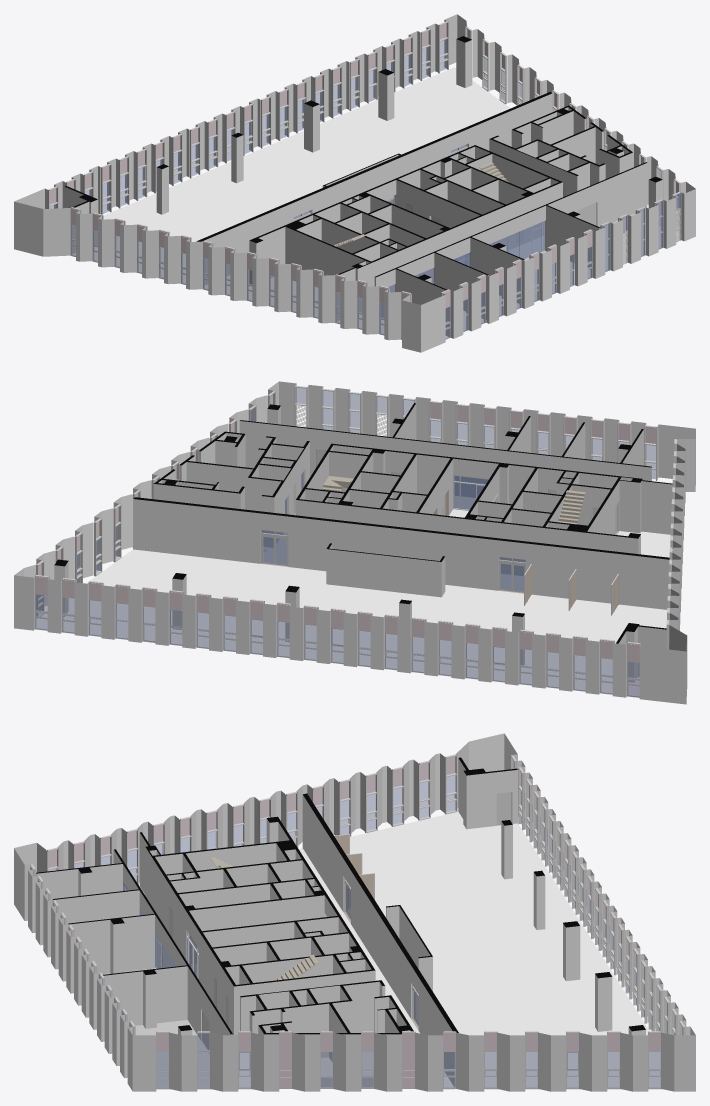
The picture shows the model from 3 angles, top to bottom: view 1: azimuth 30°, elevation 25°; view 2: azimuth 150°, elevation 25°; view 3: azimuth 270°, elevation 25°; orthographic projection. The views are drawn at different scales.
Parts seen in each view (by area): view 1: A7_10F_Wall001, A7_10F_Exterior001, A7_10F_Floor001, A7_10F_Windows001, A7_10F_WindowFrame001, A7_10F_Glass001, A7_10F_Door001; view 2: A7_10F_Wall001, A7_10F_Exterior001, A7_10F_Floor001, A7_10F_Windows001, A7_10F_WindowFrame001, A7_10F_AutoDoor001, A7_10F_Stairs001, A7_10F_Partition001, A7_10F_Door001; view 3: A7_10F_Wall001, A7_10F_Exterior001, A7_10F_Floor001, A7_10F_WindowFrame001, A7_10F_Windows001, A7_10F_Door001, A7_10F_AutoDoor001, A7_10F_Partition001, A7_10F_Stairs001.
Boxes of the visible parts, x1,y1,x2,y2 form: A7_10F_Wall001: (64,36,662,336); A7_10F_Exterior001: (14,14,695,352); A7_10F_Floor001: (73,67,678,339); A7_10F_Windows001: (49,23,680,339); A7_10F_WindowFrame001: (47,21,681,339); A7_10F_Glass001: (381,221,544,317); A7_10F_Door001: (68,202,596,276); A7_10F_Wall001: (54,403,672,682); A7_10F_Exterior001: (14,381,695,704); A7_10F_Floor001: (35,480,672,697); A7_10F_Windows001: (35,387,677,697); A7_10F_WindowFrame001: (35,385,676,696); A7_10F_AutoDoor001: (261,471,525,592); A7_10F_Stairs001: (322,476,585,524); A7_10F_Partition001: (524,564,618,615); A7_10F_Door001: (293,449,617,575); A7_10F_Wall001: (36,757,645,1087); A7_10F_Exterior001: (14,733,695,1091); A7_10F_Floor001: (102,811,661,1089); A7_10F_WindowFrame001: (30,754,685,1088); A7_10F_Windows001: (30,756,682,1088); A7_10F_Door001: (125,792,511,1049); A7_10F_AutoDoor001: (186,878,418,1026); A7_10F_Partition001: (334,834,374,908); A7_10F_Stairs001: (210,857,319,980).
Size of the model in its own units: 48.28 by 4.33 by 46.07.
